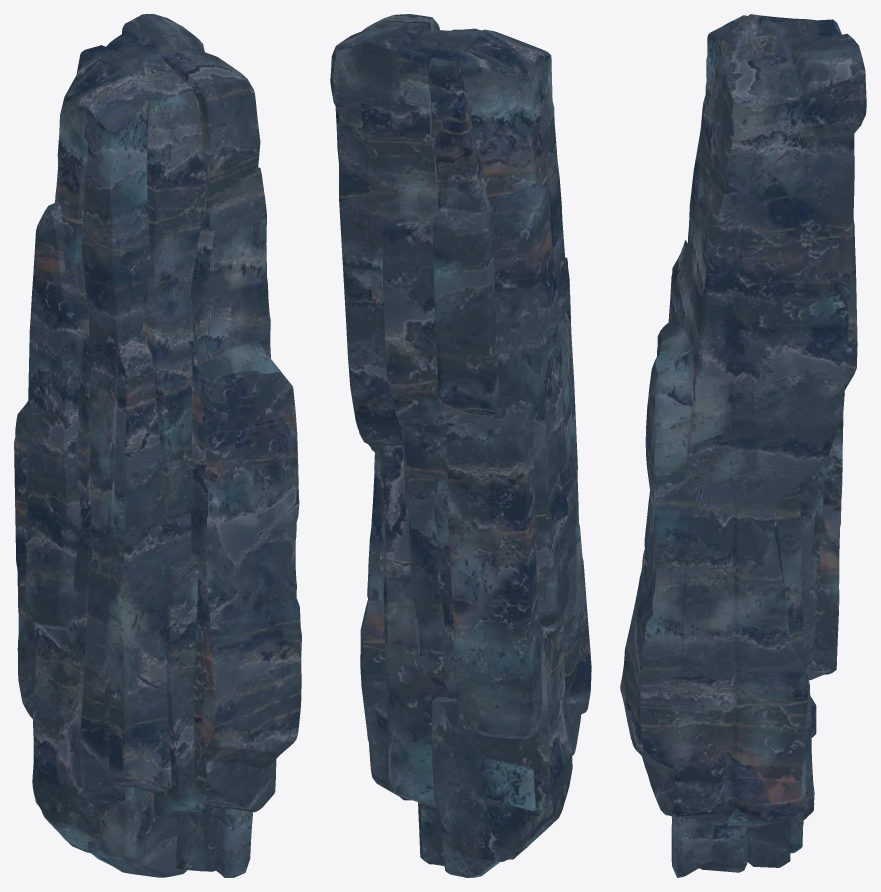
3 renders of one model, left to right at view 1: azimuth 30°, elevation 25°; view 2: azimuth 150°, elevation 25°; view 3: azimuth 270°, elevation 25°, orthographic. The views are drawn at different scales.
Visible parts, largest first — view 1: SM_Cave_Rock_02_LOD0; view 2: SM_Cave_Rock_02_LOD0; view 3: SM_Cave_Rock_02_LOD0.
Boxes of the visible parts, x1,y1,x2,y2 form: SM_Cave_Rock_02_LOD0: [14, 14, 301, 877]; SM_Cave_Rock_02_LOD0: [330, 14, 591, 877]; SM_Cave_Rock_02_LOD0: [620, 14, 866, 877].
Bounding box in the file's own units: 2.06 × 7.69 × 2.06.
Materials: 1 (1 with a texture image).
